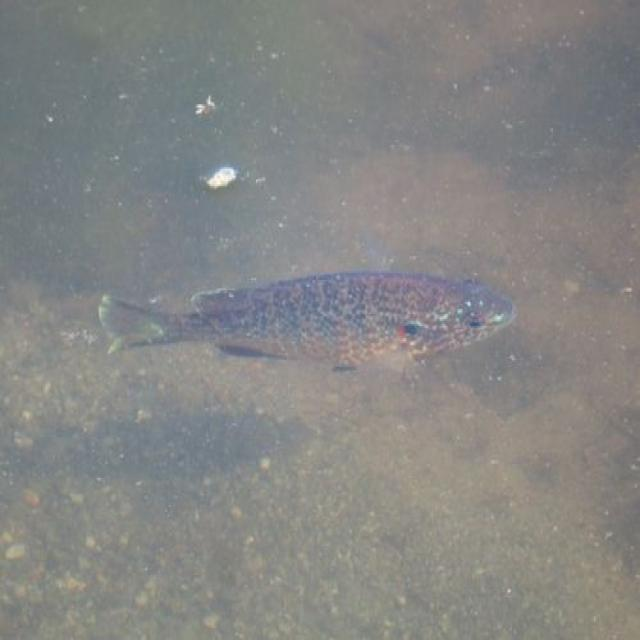Gunes Levregi: (92, 267, 546, 387)
